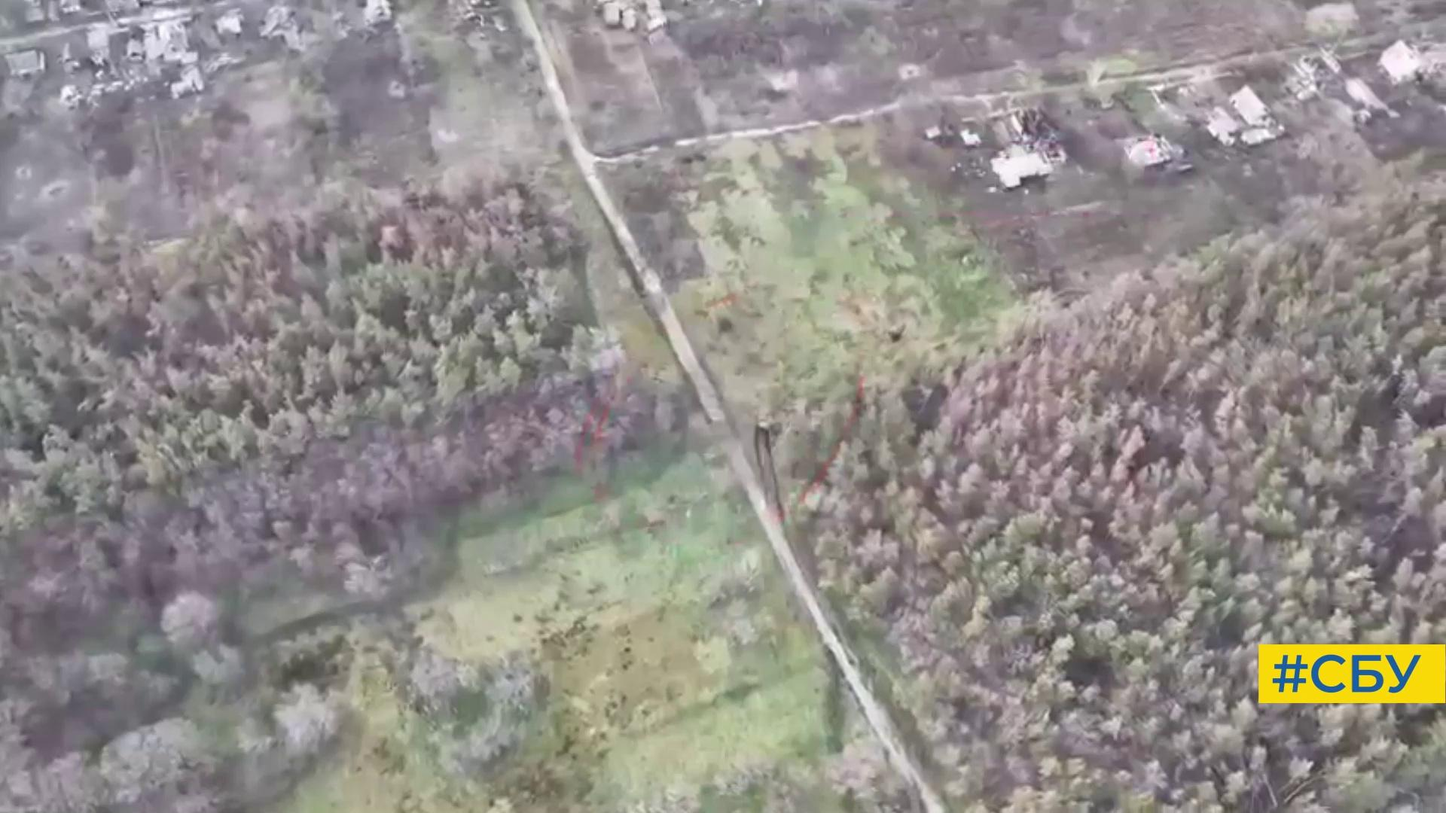vehicle: (755, 406, 772, 431)
